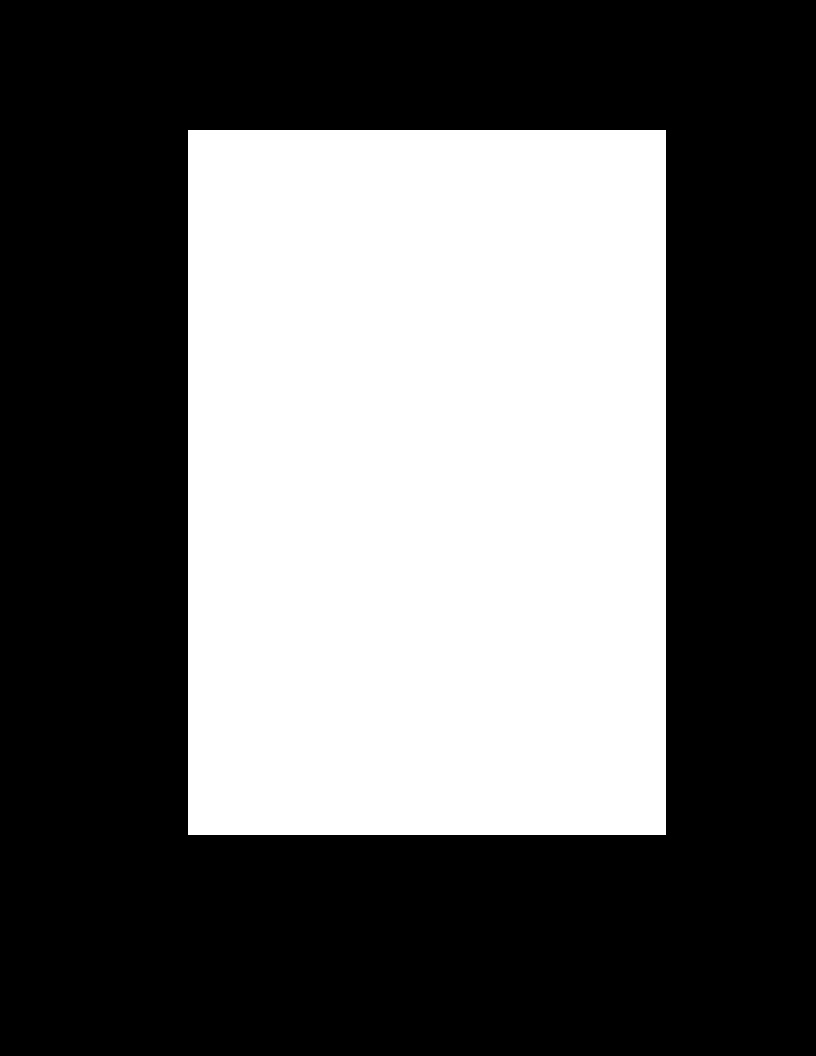table: (188, 130, 665, 834)
